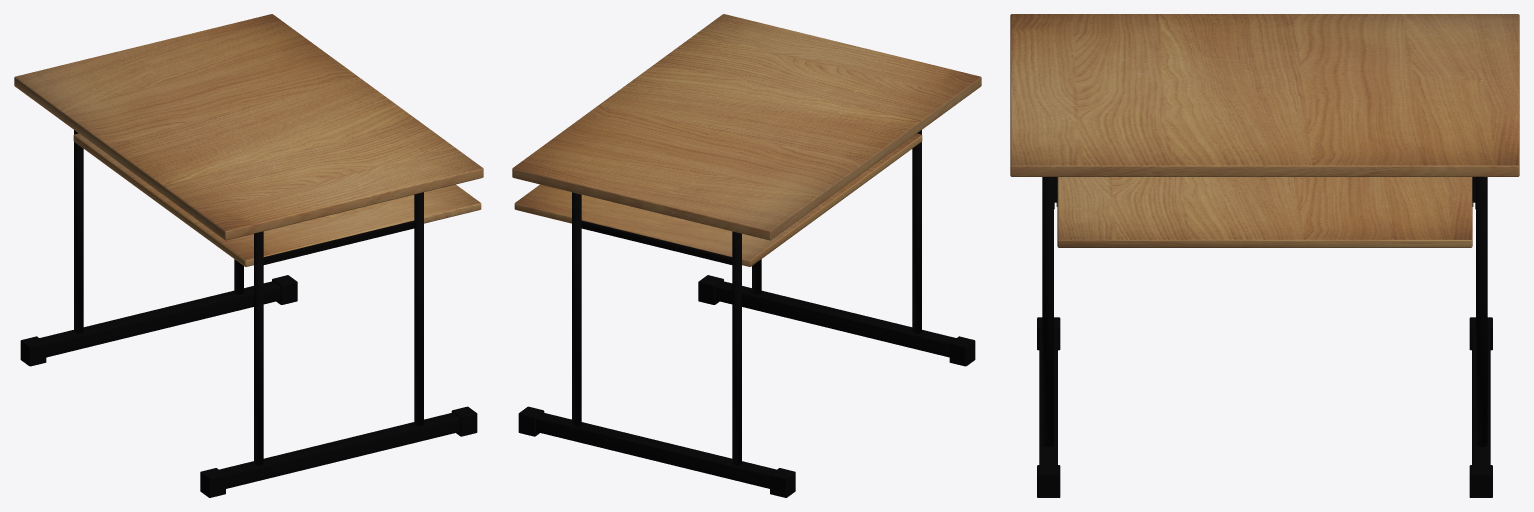
Rendered from lawka2.fbx.
The picture shows the model from 3 angles, left to right: view 1: azimuth 30°, elevation 25°; view 2: azimuth 150°, elevation 25°; view 3: azimuth 270°, elevation 25°; orthographic projection. The views are drawn at different scales.
Visible parts, largest first — view 1: Cube.002; view 2: Cube.002; view 3: Cube.002.
Boxes of the visible parts, box(x1,y1,x2,y2) form: Cube.002: box(14, 14, 483, 497); Cube.002: box(512, 14, 981, 497); Cube.002: box(1010, 14, 1519, 497).
Size of the model in its own units: 450 by 419 by 587.
5 materials, 1 textured.
